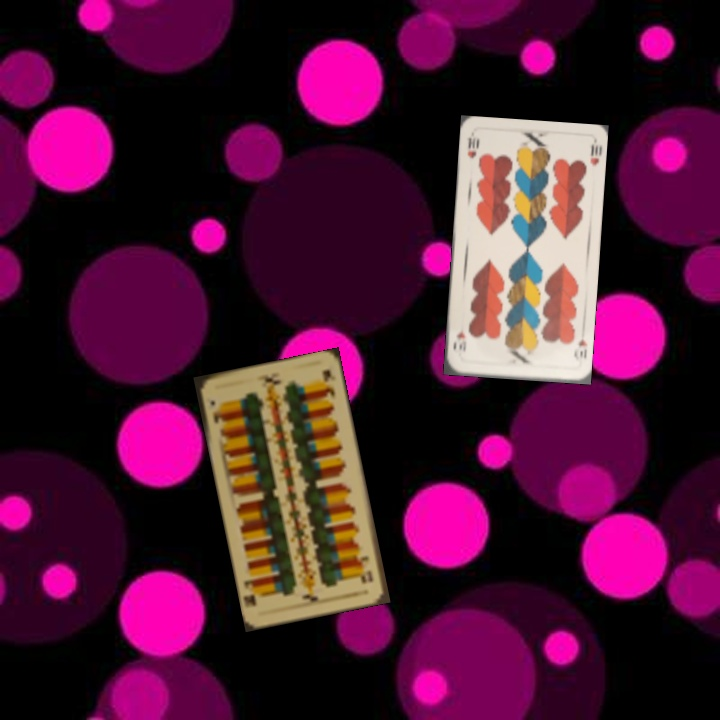E10: (357, 552, 375, 585), (206, 396, 225, 426)
H10: (570, 327, 589, 363), (464, 134, 482, 161)
